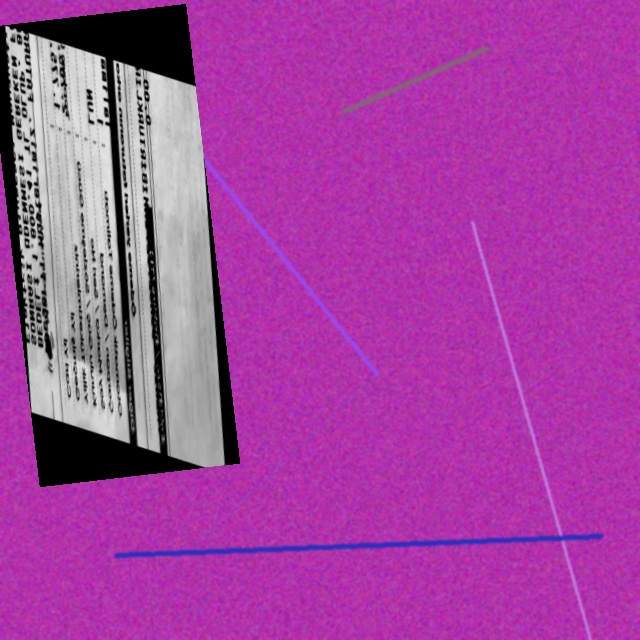electricity-bill: (0, 3, 240, 486)
